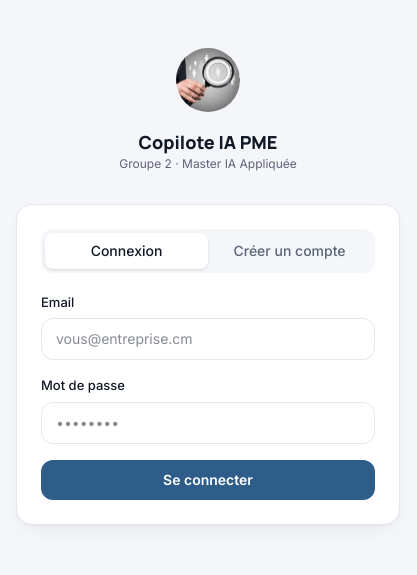
Test: affiche une erreur si le mot de passe est incorrect
This screenshot has width=417, height=575.
In the field labelled "Email": (208, 339) x1=41 y1=318 x2=375 y2=360, type "paul@pme-exemple.cm"
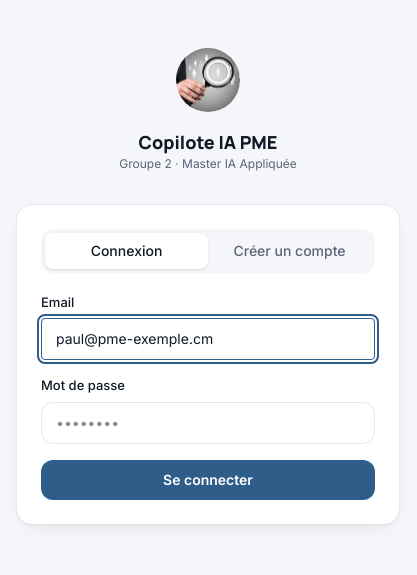
In the password field labelled "Mot de passe": (208, 422) x1=41 y1=402 x2=375 y2=444, type "mauvais"
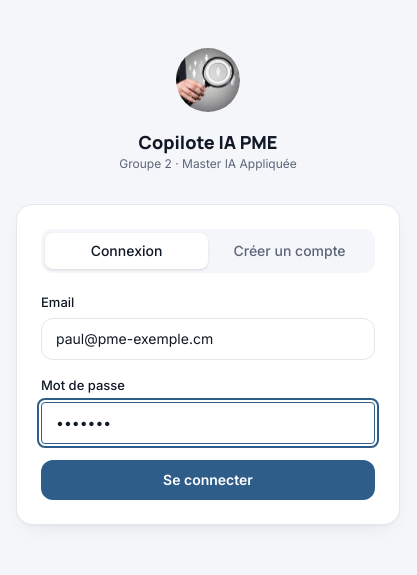
Click the button "Se connecter": (208, 480) x1=41 y1=460 x2=375 y2=500
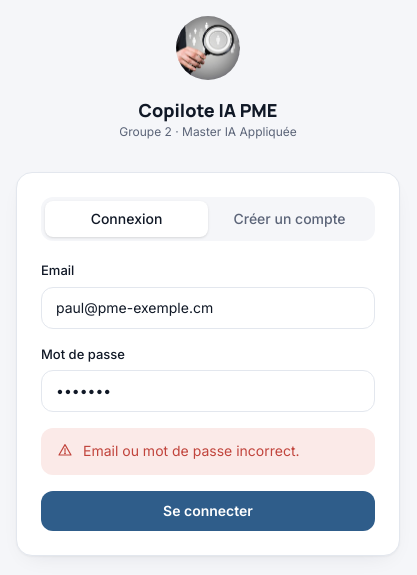
Now the text "Email ou mot de passe incorrect." is shown, box x1=83 y1=440 x2=300 y2=463
